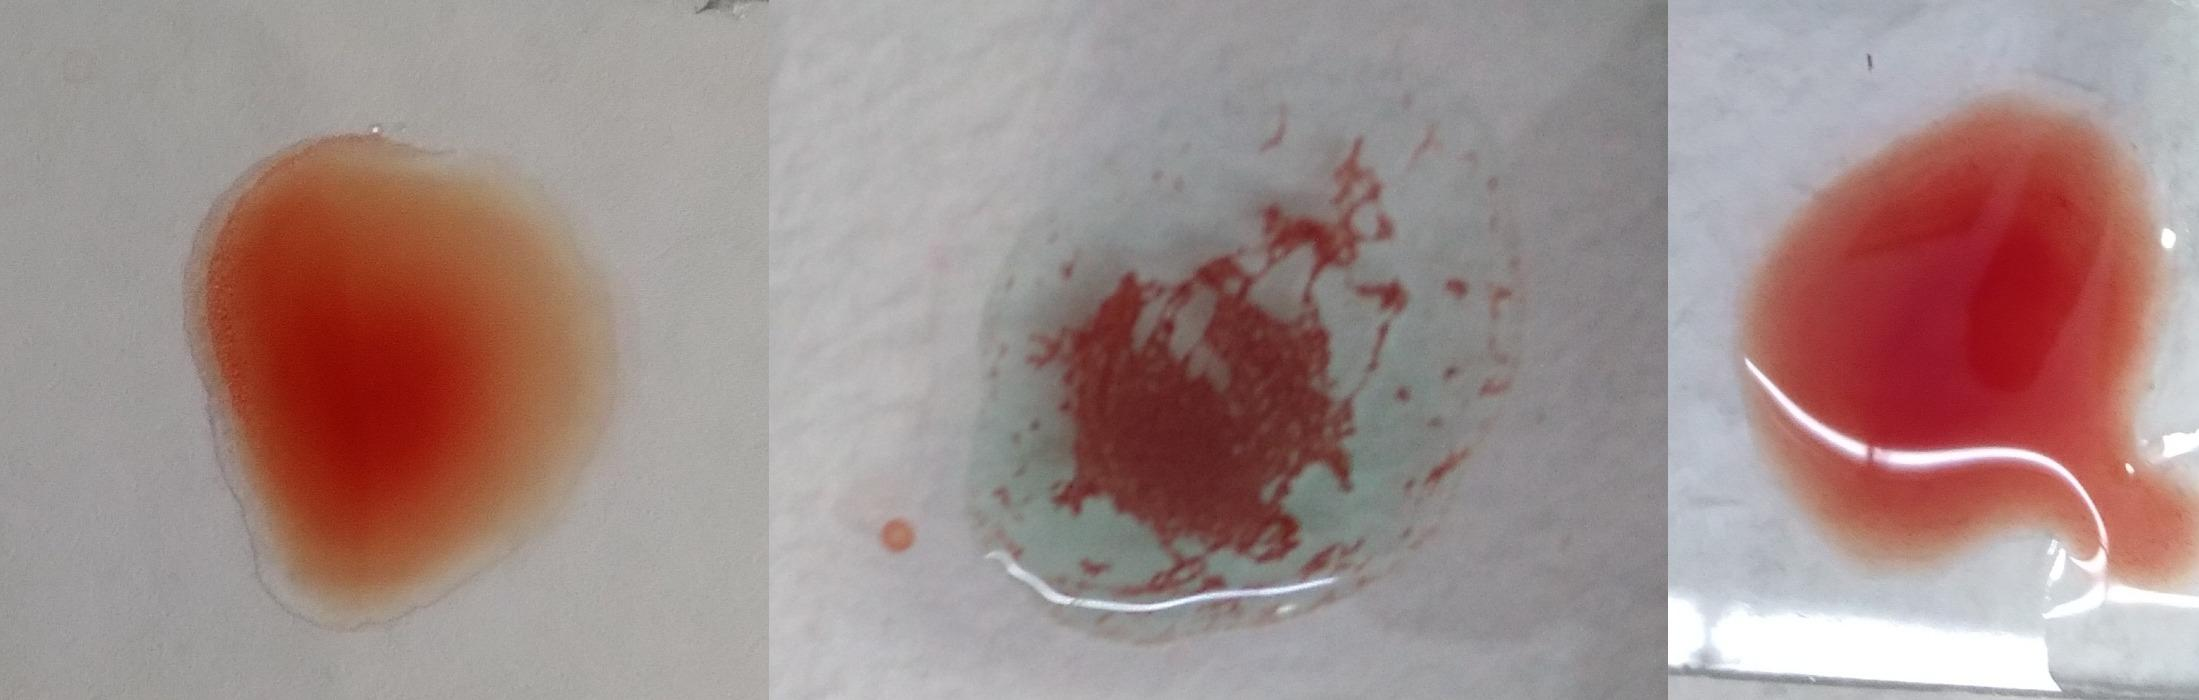A: (961, 80, 1513, 642)
